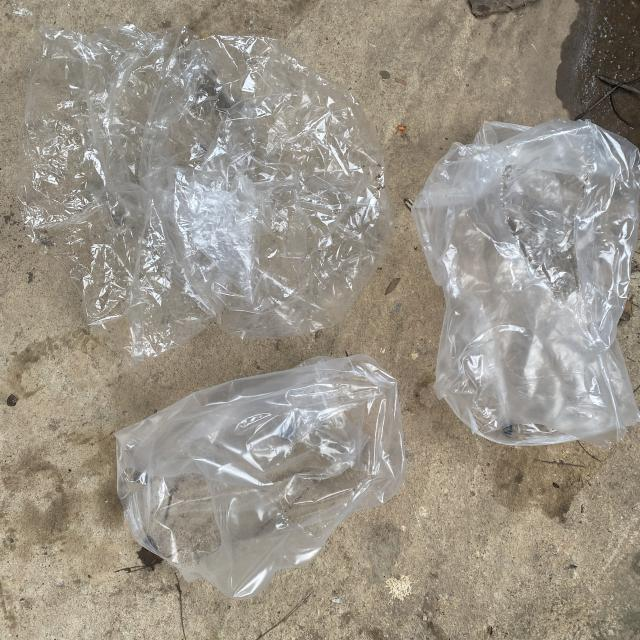Single-layer Plastic: (18, 25, 394, 362), (412, 119, 640, 448), (116, 355, 406, 599)
